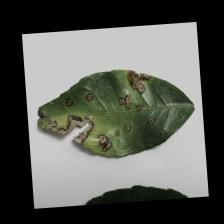canker: (36, 70, 160, 155)
